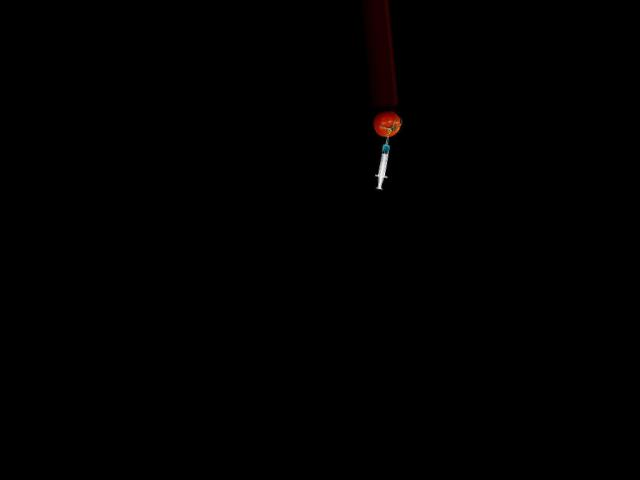tomato: (371, 110, 402, 137)
